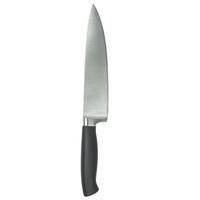knife: (77, 2, 112, 200)
